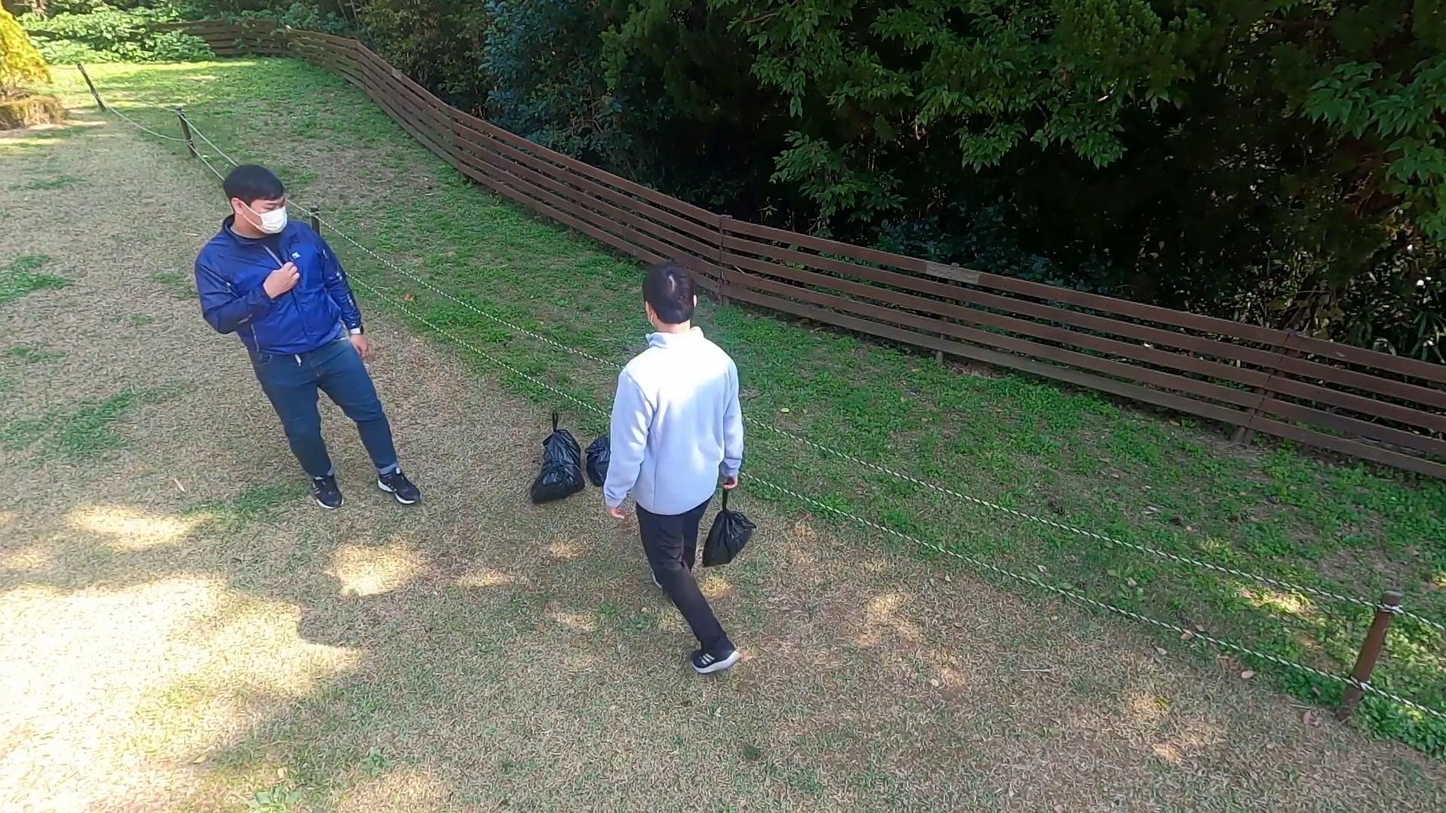person: (173, 151, 441, 528), (599, 259, 759, 680)
trash: (702, 484, 758, 569), (531, 453, 584, 504), (584, 426, 623, 489), (540, 413, 579, 469)
